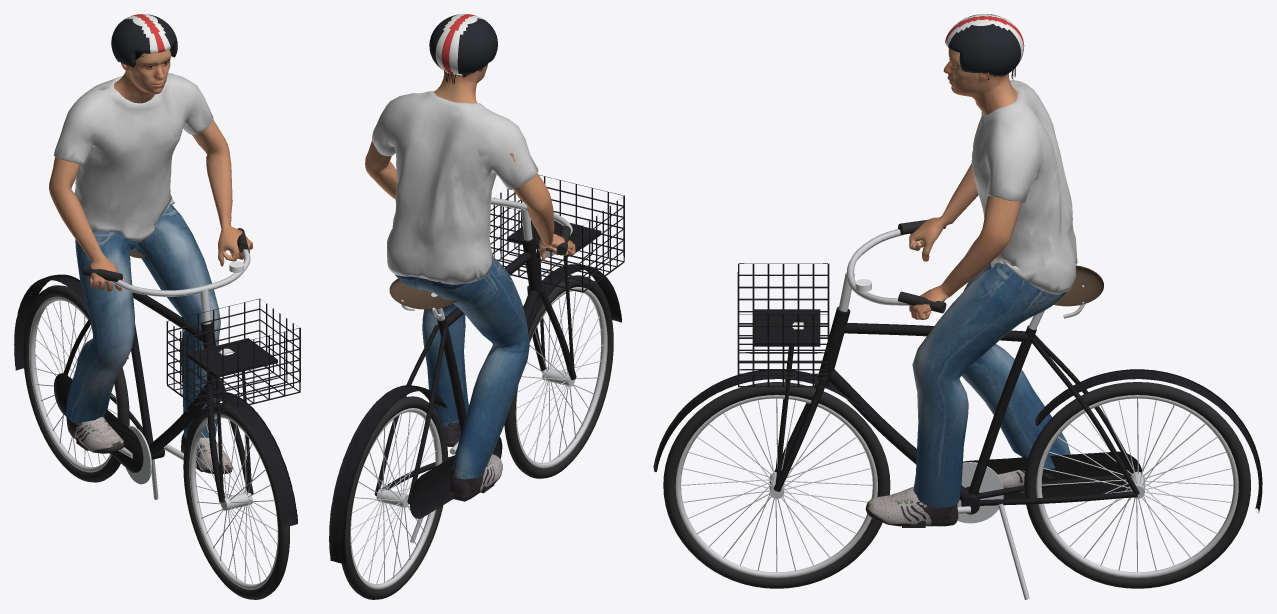
File: bicycle.glb
3 renders of one model, left to right at view 1: azimuth 30°, elevation 25°; view 2: azimuth 150°, elevation 25°; view 3: azimuth 270°, elevation 25°, orthographic. The views are drawn at different scales.
Parts seen in each view (by area): view 1: rider_bicycle_body, bicycle_body, bicycle_front_wheel, bicycle_rear_wheel, rider_bicycle_head; view 2: rider_bicycle_body, bicycle_body, bicycle_front_wheel, bicycle_rear_wheel, rider_bicycle_head; view 3: rider_bicycle_body, bicycle_body, bicycle_rear_wheel, bicycle_front_wheel, rider_bicycle_head.
Part boxes in pixels (x1,y1,x2,y2): rider_bicycle_body: (49,71,252,474); bicycle_body: (14,228,300,527); bicycle_front_wheel: (183,402,289,599); bicycle_rear_wheel: (23,285,129,482); rider_bicycle_head: (111,14,177,100); rider_bicycle_body: (365,72,575,501); bicycle_body: (329,175,624,564); bicycle_front_wheel: (504,275,613,478); bicycle_rear_wheel: (341,396,448,599); rider_bicycle_head: (429,14,497,84); rider_bicycle_body: (865,73,1077,526); bicycle_body: (653,219,1262,599); bicycle_rear_wheel: (1024,382,1250,588); bicycle_front_wheel: (663,382,890,588); rider_bicycle_head: (943,14,1024,113).
Size of the model in its own units: 0.6844 by 1.88 by 1.82.
Materials: 16 (7 with a texture image).
